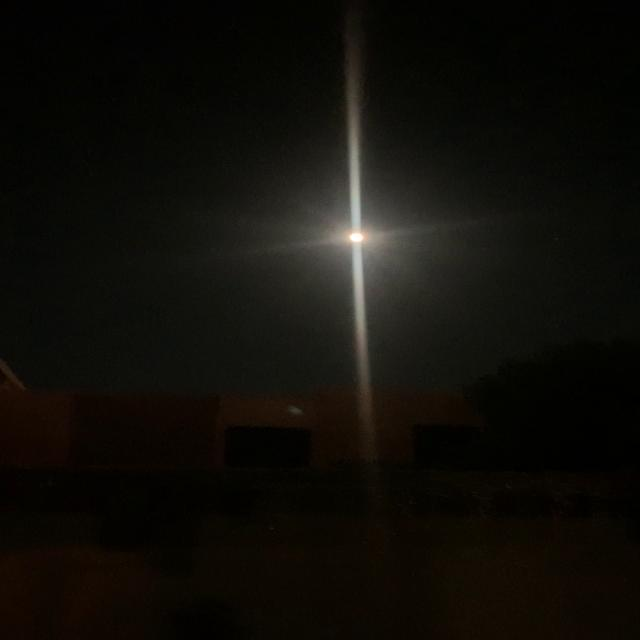moon: (334, 218, 379, 244)
